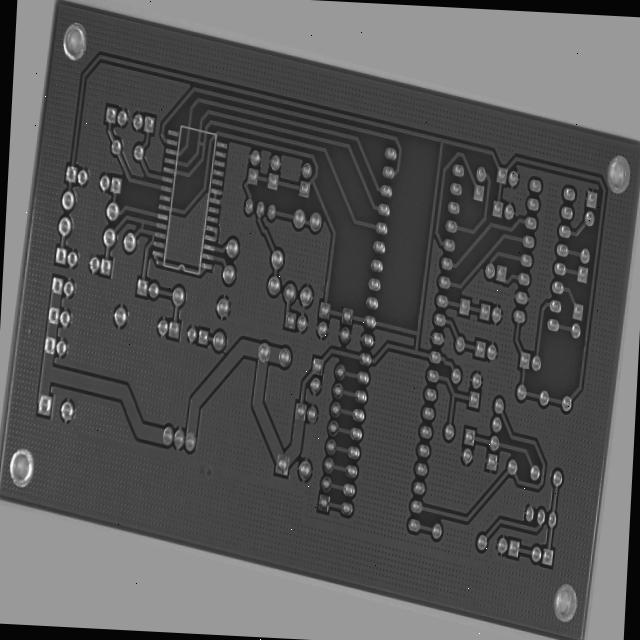short: (174, 124, 187, 149), (117, 239, 130, 262), (133, 254, 141, 275)
